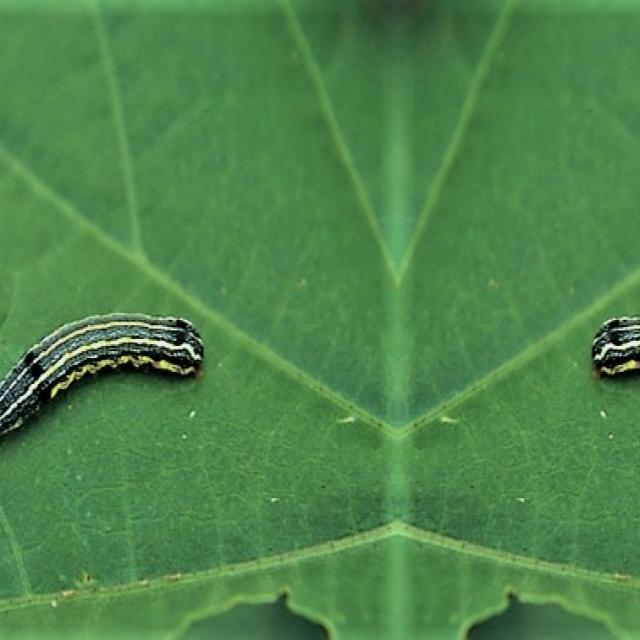Armyworm: (1, 277, 189, 448), (595, 243, 640, 460)
